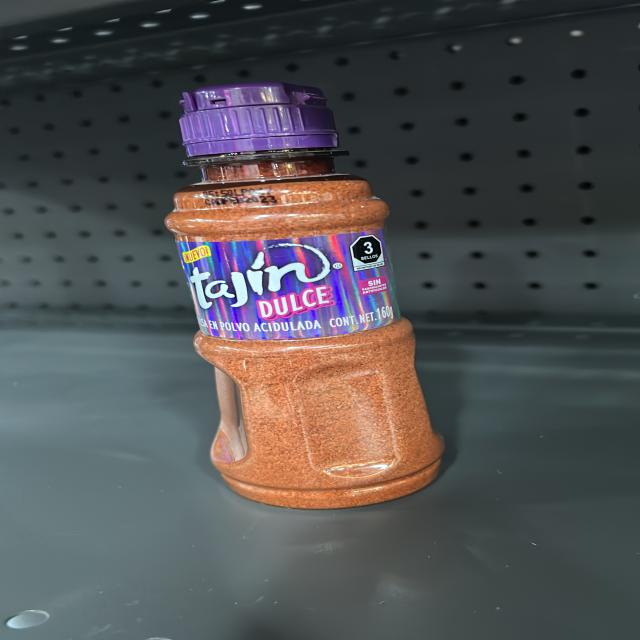tajinDulce: (170, 83, 448, 498)
